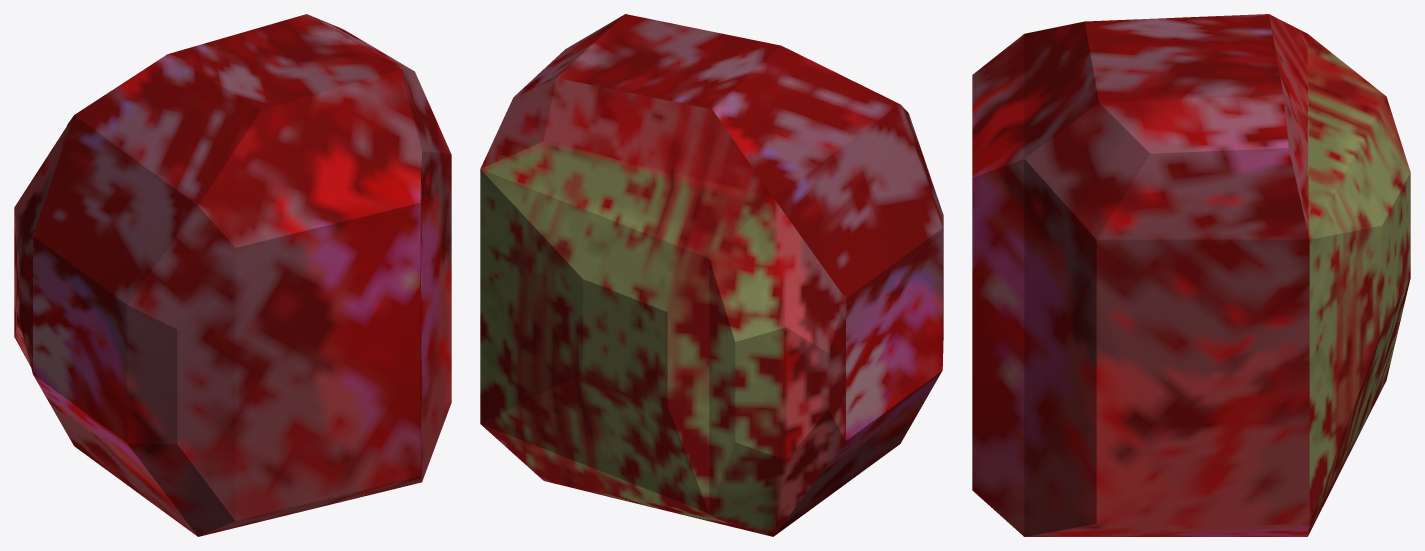
Rendered from Digdig köttlår Gibb.fbx.
3 renders of one model, left to right at view 1: azimuth 30°, elevation 25°; view 2: azimuth 150°, elevation 25°; view 3: azimuth 270°, elevation 25°, orthographic. The views are drawn at different scales.
Visible parts, largest first — view 1: pCube1; view 2: pCube1; view 3: pCube1.
Boxes of the visible parts, left/top/right/bottom form: pCube1: left=14, top=14, right=451, bottom=536; pCube1: left=480, top=14, right=943, bottom=536; pCube1: left=972, top=14, right=1410, bottom=536.
Bounding box in the file's own units: 0.9355 × 1.01 × 0.9117.
